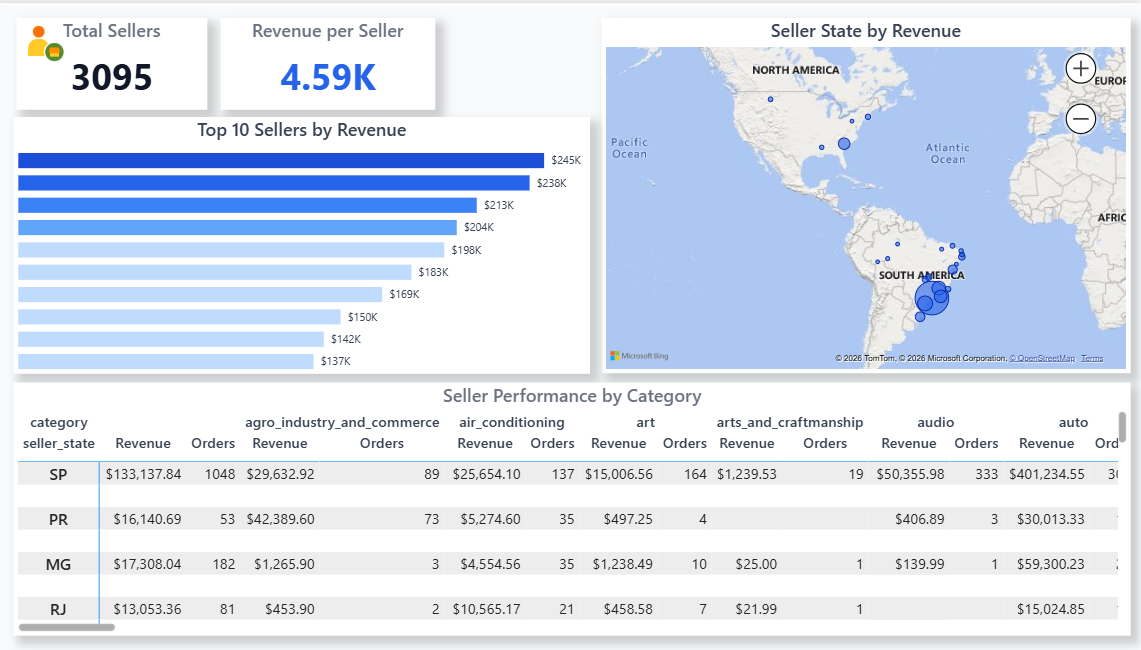

Layout of this report page (visuals, bound fields, positions):
{"tool":"powerbi","page":{"name":"Seller","canvas":[1280,720],"ordinal":7},"visuals":[{"type":"card","title":"Total Sellers","fields":{"Values":["public bi_fact_sales.Sellers"]},"box":[28.3,16.7,211.7,101.7],"z":0},{"type":"card","title":"Revenue per Seller","fields":{"Values":["public bi_fact_sales.Revenue per Seller"]},"box":[255,16.7,238.3,101.7],"z":1000},{"type":"map","title":"Seller State by Revenue","fields":{"Category":["public bi_fact_sales.seller_state"],"Size":["public bi_fact_sales.Revenue"]},"box":[678.4,17,587.7,395],"z":2000},{"type":"barChart","title":"Top 10 Sellers by Revenue","fields":{"Y":["public bi_fact_sales.Revenue"],"Category":["public bi_fact_sales.seller_id"]},"box":[24.6,126.6,640.6,285.4],"z":3000},{"type":"pivotTable","title":"Seller Performance by Category","fields":{"Columns":["public bi_fact_sales.category"],"Rows":["public bi_fact_sales.seller_state"],"Values":["public bi_fact_sales.Revenue","public bi_fact_sales.Orders"]},"box":[24.6,421.4,1241.6,281.6],"z":4000},{"type":"image","box":[35,21.7,51.7,46.7],"z":5000}]}

Visuals, with their boxes in screenshot pixels (x1, y1, x2, y2), scaled from the page's 1280x720 canvas onto the 1141x650 screenshot:
"Total Sellers" card: [x1=25, y1=15, x2=214, y2=107]
"Revenue per Seller" card: [x1=227, y1=15, x2=440, y2=107]
"Seller State by Revenue" map: [x1=605, y1=15, x2=1129, y2=372]
"Top 10 Sellers by Revenue" barChart: [x1=22, y1=114, x2=593, y2=372]
"Seller Performance by Category" pivotTable: [x1=22, y1=380, x2=1129, y2=635]
image: [x1=31, y1=20, x2=77, y2=62]
